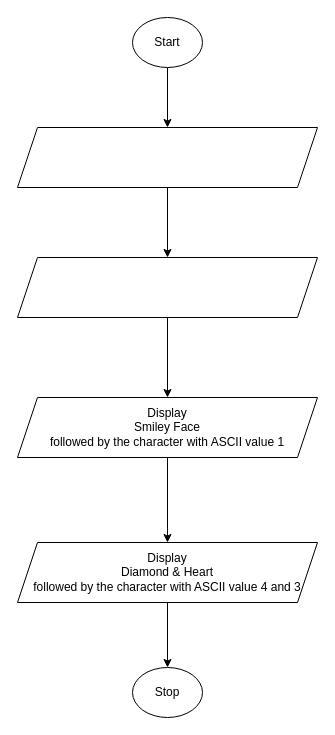
Some shapes in this 335 by 735 pixel diagram are drawn without their labels. The shapes that lost their labels are listed below. From the top down, each one's box as (x1, y1, x2, y2) in pixels, then its label:
(16, 126, 318, 188): Display Title and Author
(16, 256, 318, 318): Display Blank Line
